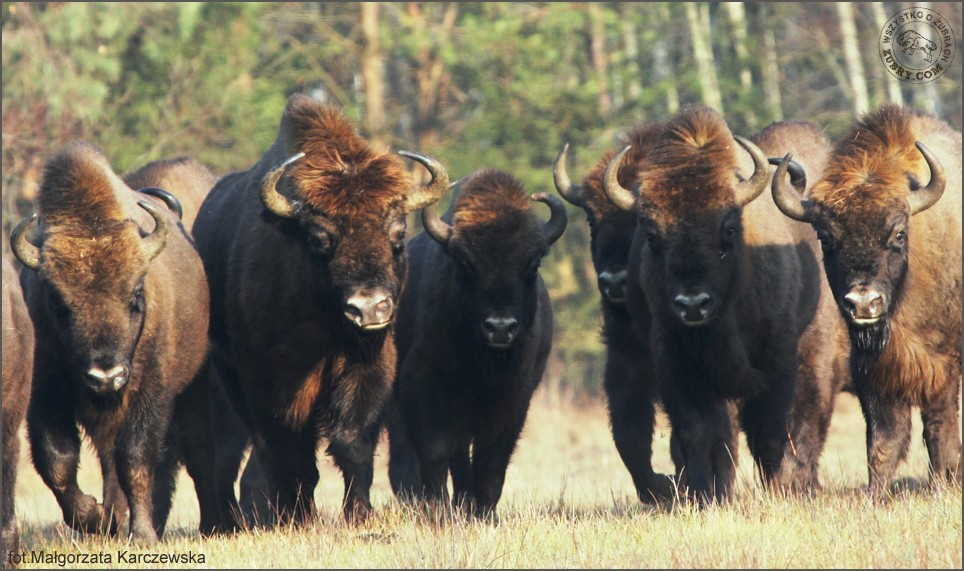zubr: (181, 75, 434, 514), (605, 92, 837, 526)
